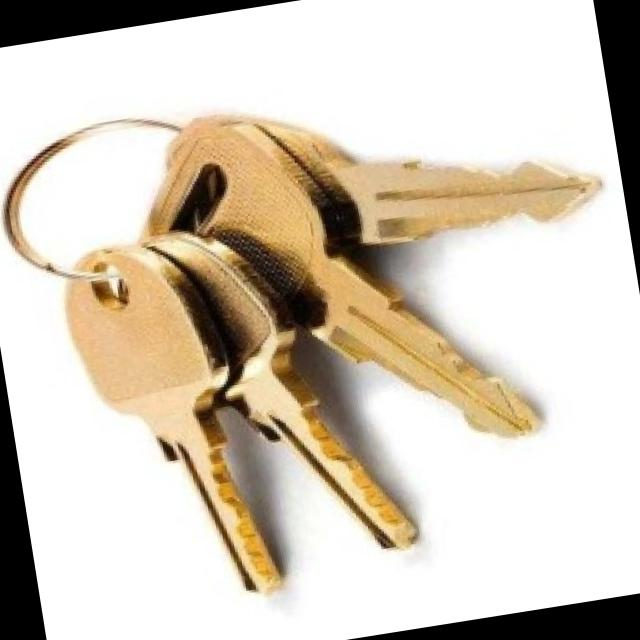anahtar: (54, 223, 296, 637)
